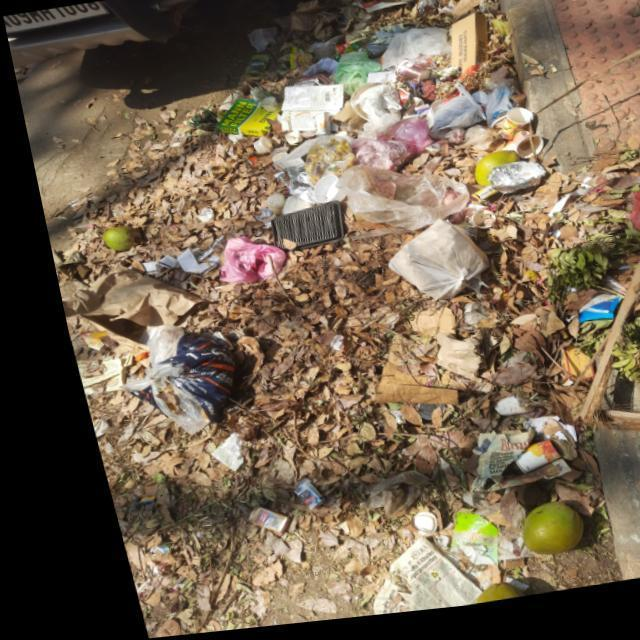Plastic_Bag: (12, 0, 313, 249)
